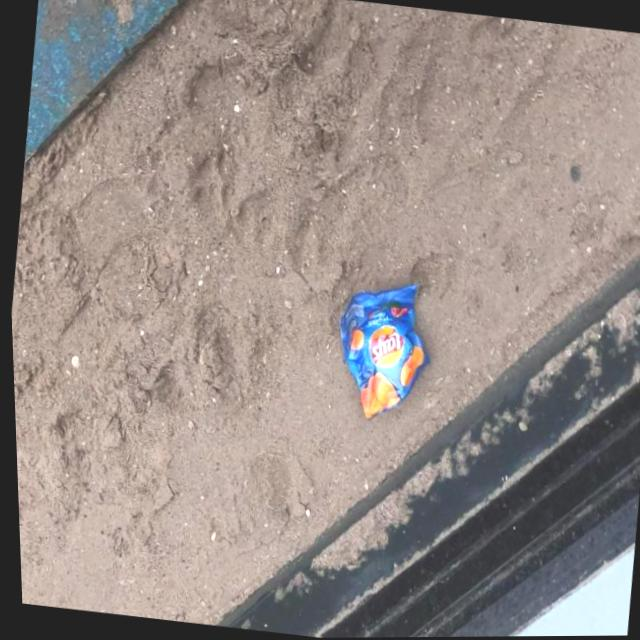Plastic: (323, 272, 439, 429)
